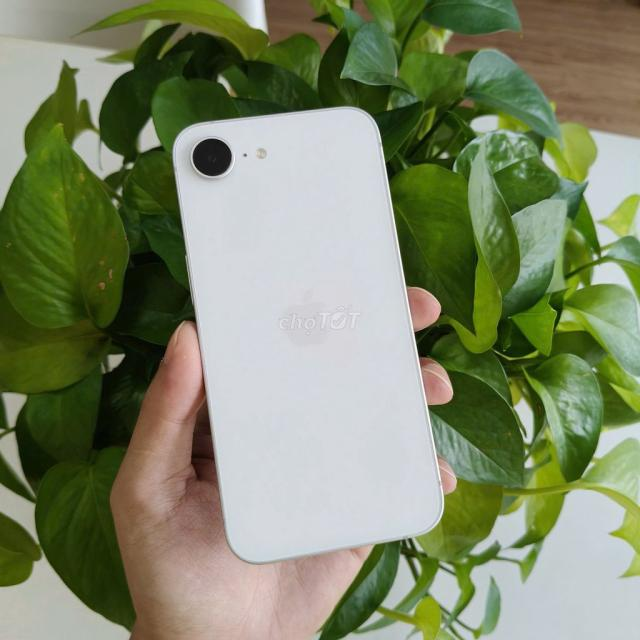gen_16: (174, 108, 443, 562)
